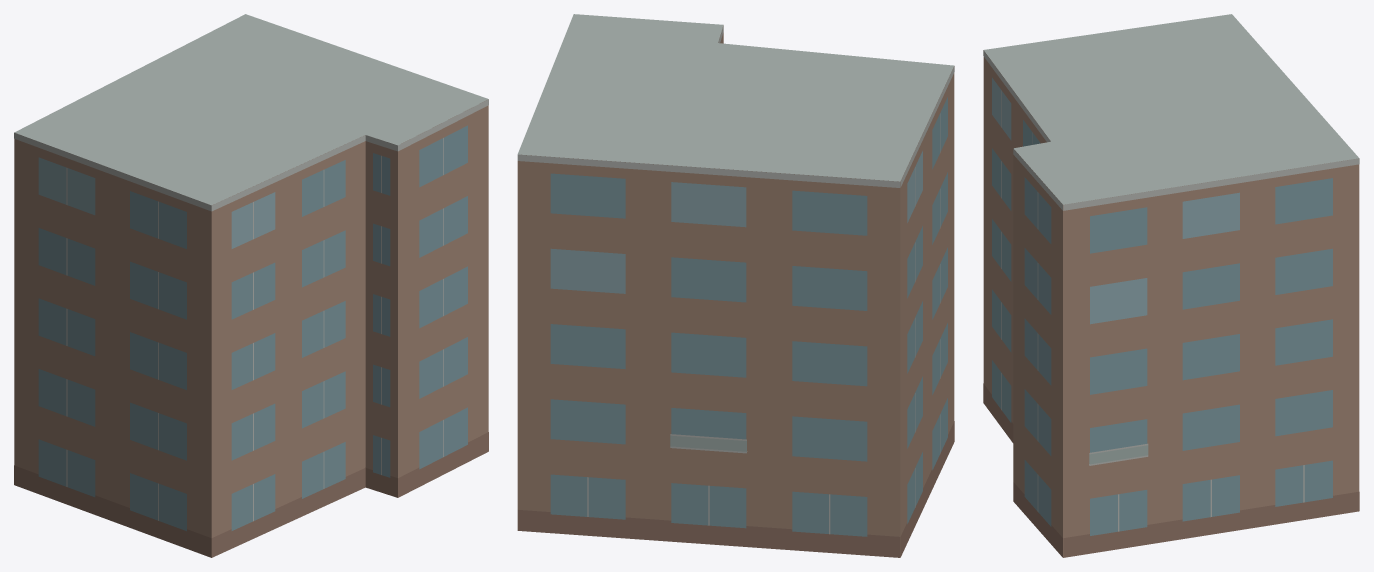
File: survey-upis-32863913.glb
3 views of the same model, side by side, from view 1: azimuth 30°, elevation 25°; view 2: azimuth 150°, elevation 25°; view 3: azimuth 270°, elevation 25° (orthographic). The views are drawn at different scales.
Visible parts, largest first — view 1: survey-upis-32863913.tmp; view 2: survey-upis-32863913.tmp; view 3: survey-upis-32863913.tmp.
Part boxes in pixels (left/top/right/bottom): survey-upis-32863913.tmp: left=14, top=14, right=488, bottom=557; survey-upis-32863913.tmp: left=517, top=14, right=954, bottom=557; survey-upis-32863913.tmp: left=983, top=14, right=1359, bottom=557.
Bounding box in the file's own units: 16.35 × 14.1 × 13.62.
